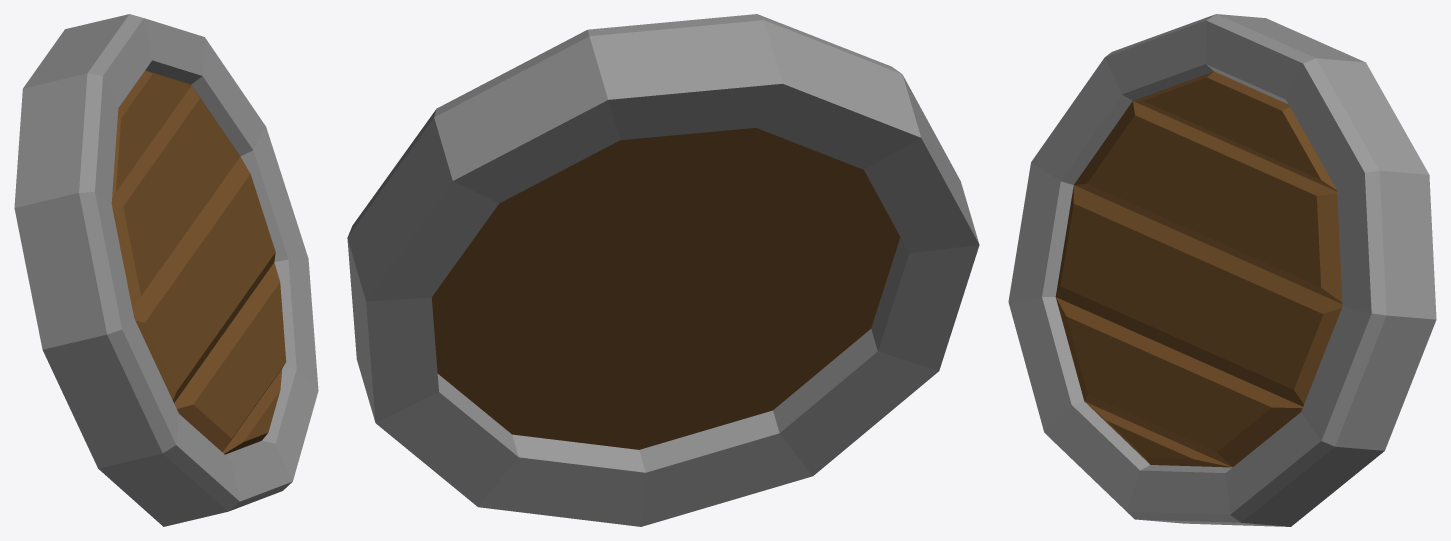
File: Wooden Buckler.fbx
3 renders of one model, left to right at view 1: azimuth 30°, elevation 25°; view 2: azimuth 150°, elevation 25°; view 3: azimuth 270°, elevation 25°, orthographic. The views are drawn at different scales.
Visible parts, largest first — view 1: Cylinder001; view 2: Cylinder001; view 3: Cylinder001.
Boxes of the visible parts, x1,y1,x2,y2 form: Cylinder001: (14,14,318,526); Cylinder001: (347,14,979,526); Cylinder001: (1008,14,1436,526).
Bounding box in the file's own units: 14.42 × 16.2 × 13.85.
